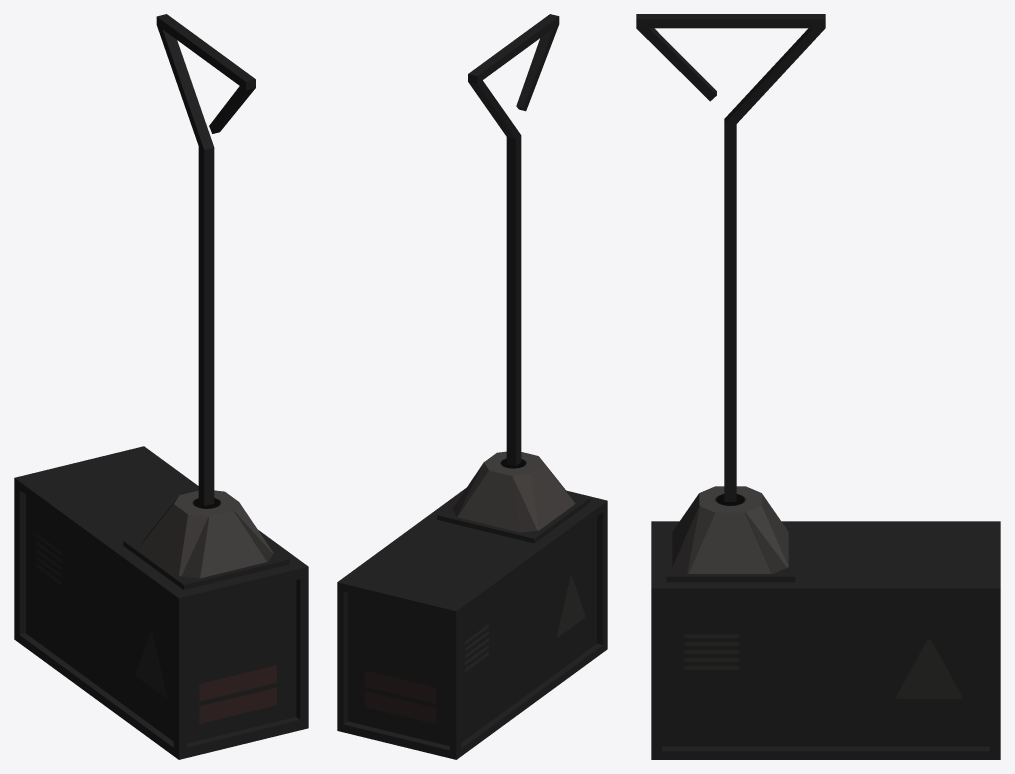
The model's file is radioBox.obj.
The picture shows the model from 3 angles, left to right: view 1: azimuth 30°, elevation 25°; view 2: azimuth 150°, elevation 25°; view 3: azimuth 270°, elevation 25°; orthographic projection. The views are drawn at different scales.
Parts seen in each view (by area): view 1: Cube.001, Cube.002, Cube; view 2: Cube.001, Cube.002, Cube; view 3: Cube.001, Cube.002, Cube.
Part boxes in pixels (x1,y1,x2,y2): Cube.001: [14, 446, 308, 759]; Cube.002: [156, 14, 255, 505]; Cube: [139, 490, 273, 578]; Cube.001: [337, 487, 607, 759]; Cube.002: [468, 14, 559, 465]; Cube: [452, 451, 575, 532]; Cube.001: [651, 521, 1000, 759]; Cube.002: [636, 14, 825, 501]; Cube: [672, 486, 788, 573].
Size of the model in its own units: 1.68 by 8.27 by 3.85.
3 materials, 3 textured.
